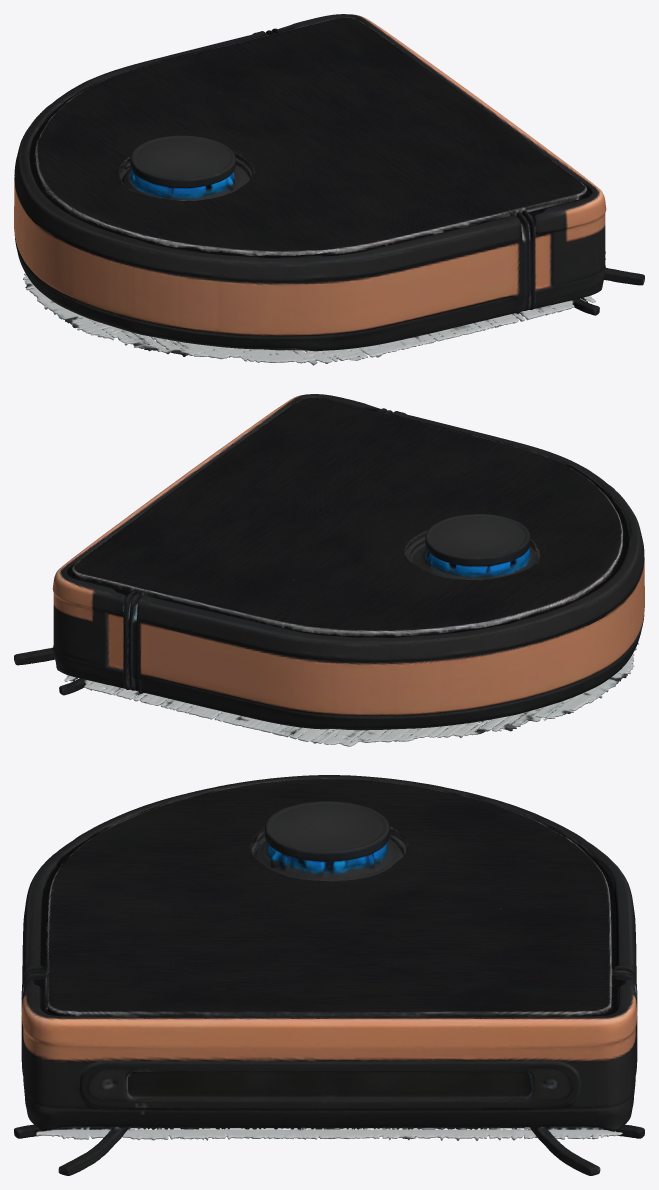
Rendered from x9-obsidian.glb.
3 views of the same model, one above another, from view 1: azimuth 30°, elevation 25°; view 2: azimuth 150°, elevation 25°; view 3: azimuth 270°, elevation 25° (orthographic). The views are drawn at different scales.
Visible parts, largest first — view 1: tripo_node_f41cfca5-8b3a-491b-b7d5-8f247f609b4a; view 2: tripo_node_f41cfca5-8b3a-491b-b7d5-8f247f609b4a; view 3: tripo_node_f41cfca5-8b3a-491b-b7d5-8f247f609b4a.
Boxes of the visible parts, x1,y1,x2,y2 form: tripo_node_f41cfca5-8b3a-491b-b7d5-8f247f609b4a: (14,14,644,365); tripo_node_f41cfca5-8b3a-491b-b7d5-8f247f609b4a: (14,394,644,746); tripo_node_f41cfca5-8b3a-491b-b7d5-8f247f609b4a: (14,775,644,1175).
Bounding box in the file's own units: 0.9999 × 0.2534 × 0.9553.
1 material, 1 textured.
